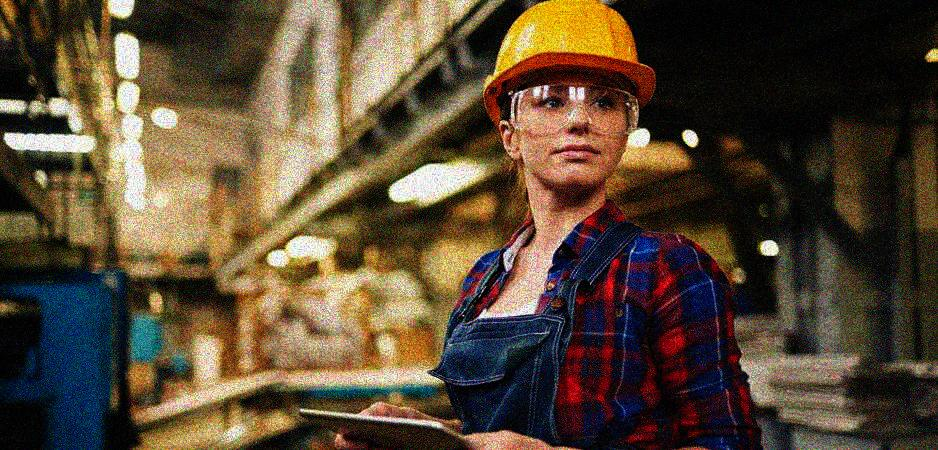helmet: (480, 1, 660, 191)
